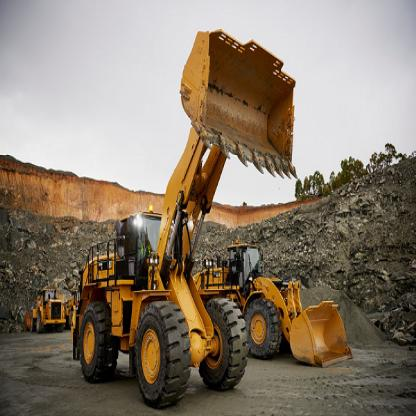bull_dozer/loader/grader: (71, 20, 300, 409), (202, 243, 354, 380), (20, 279, 66, 333)
